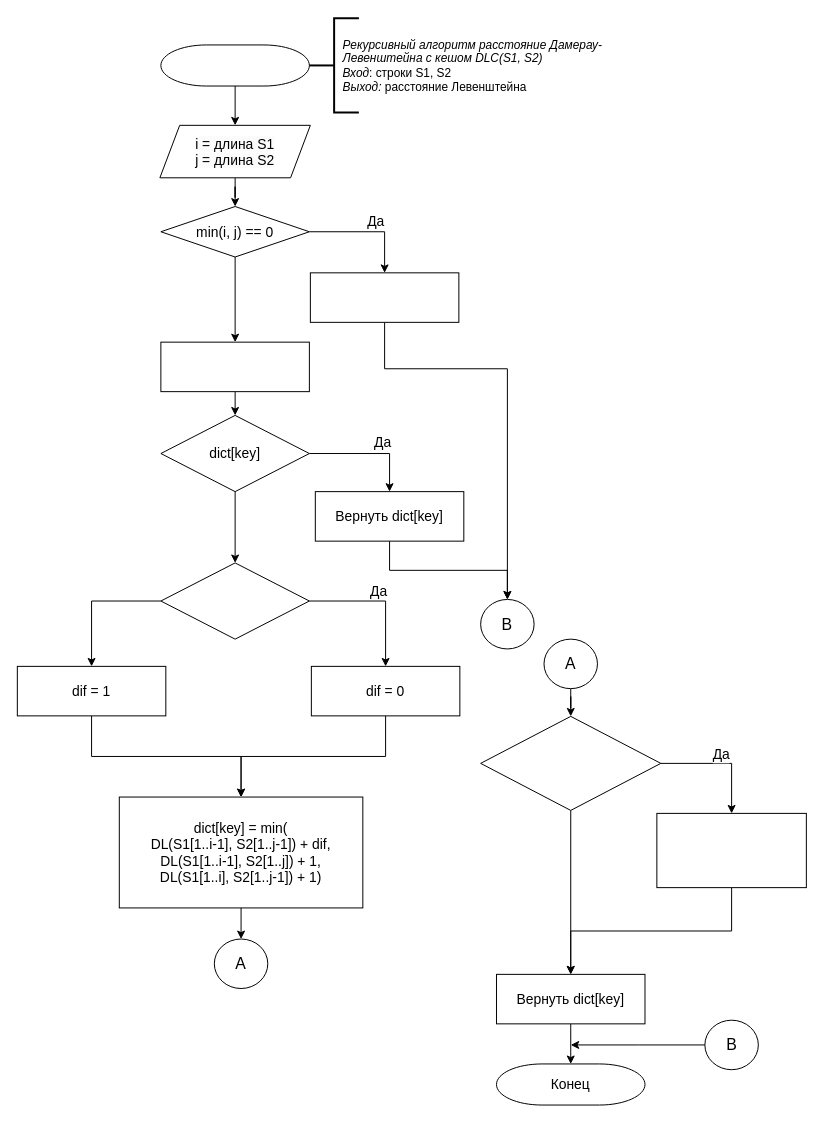
Image size: 824x1123. Some labels were removed from this diagram. Here are the shapes that lost their labels. From the top down, the centre of each, then its label:
(234,65): Начало
(384,297): Вернуть max (i, j)
(234,366): Сформировать key
(234,600): S1[i-1] == S2[j-1]
(570,762): i > 1, j > 1 S1[i-2] == S2[j-1] S1[i-1] == S2[j-2]
(731,850): dict[key] = min( dict[key], DL(S1[1..i-2], S2[1..j-2]) + 1)
